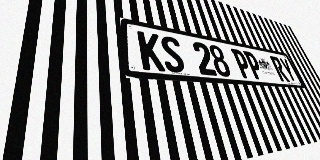2: (191, 41, 217, 76)
8: (207, 44, 232, 77)
K: (137, 30, 166, 72)
P: (230, 48, 254, 79), (243, 51, 265, 80)
R: (269, 56, 290, 82)
S: (159, 35, 186, 73)
Y: (278, 57, 298, 82)
